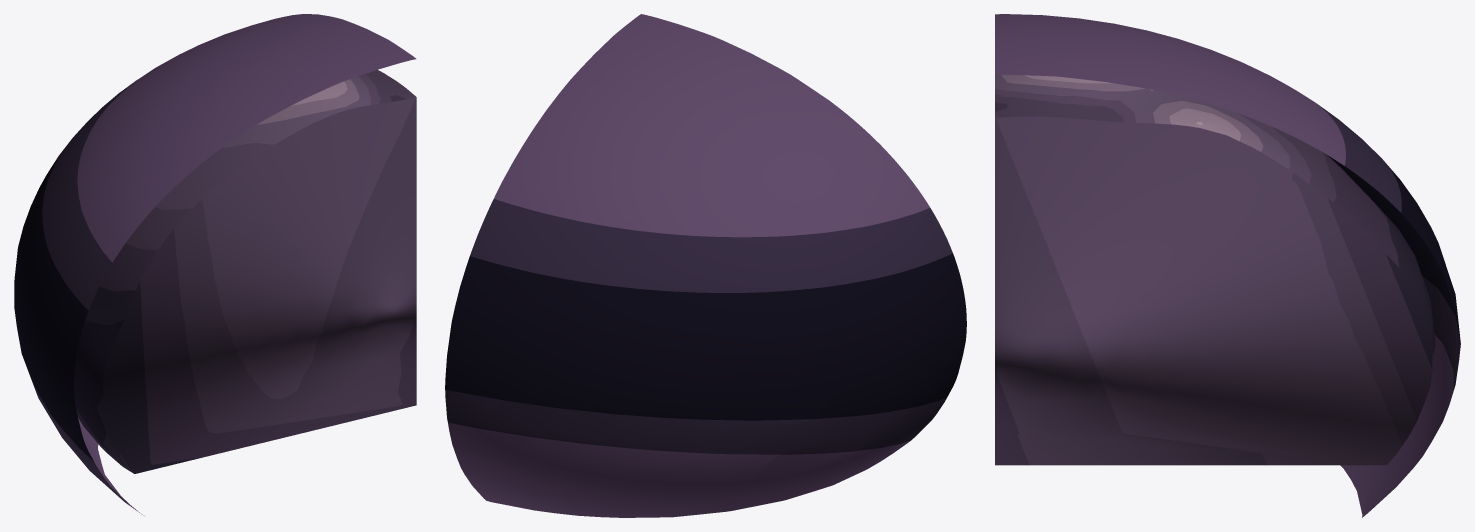
File: glass_globe_tl_246.glb
3 views of the same model, side by side, from view 1: azimuth 30°, elevation 25°; view 2: azimuth 150°, elevation 25°; view 3: azimuth 270°, elevation 25° (orthographic). The views are drawn at different scales.
Visible parts, largest first — view 1: glass_globe_tl; view 2: glass_globe_tl; view 3: glass_globe_tl.
Boxes of the visible parts, <box> form: glass_globe_tl: <box>14,14,416,515</box>; glass_globe_tl: <box>445,14,966,517</box>; glass_globe_tl: <box>995,14,1460,517</box>.
Size of the model in its own units: 22.9 by 25.11 by 23.9.
